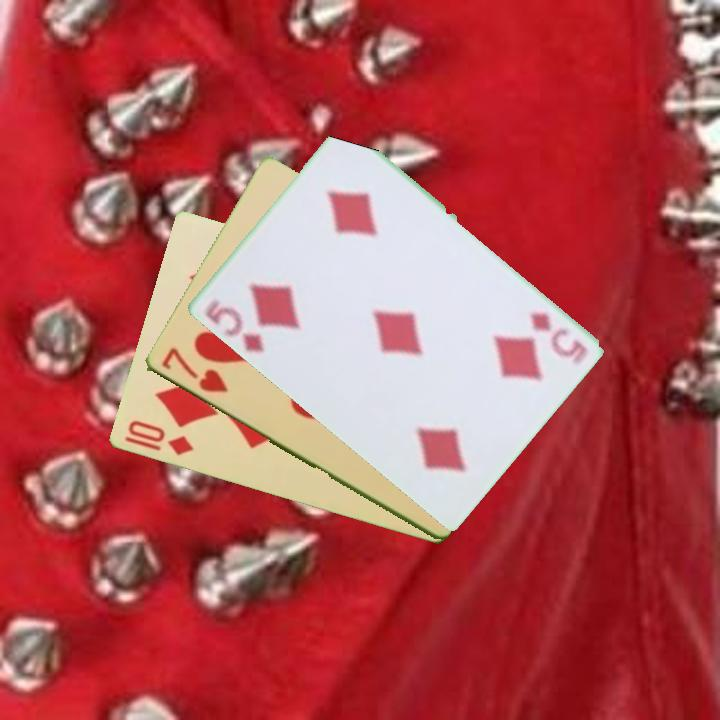10d: (124, 417, 197, 459)
5d: (201, 295, 267, 356), (525, 309, 590, 366)
7h: (157, 344, 231, 396)
